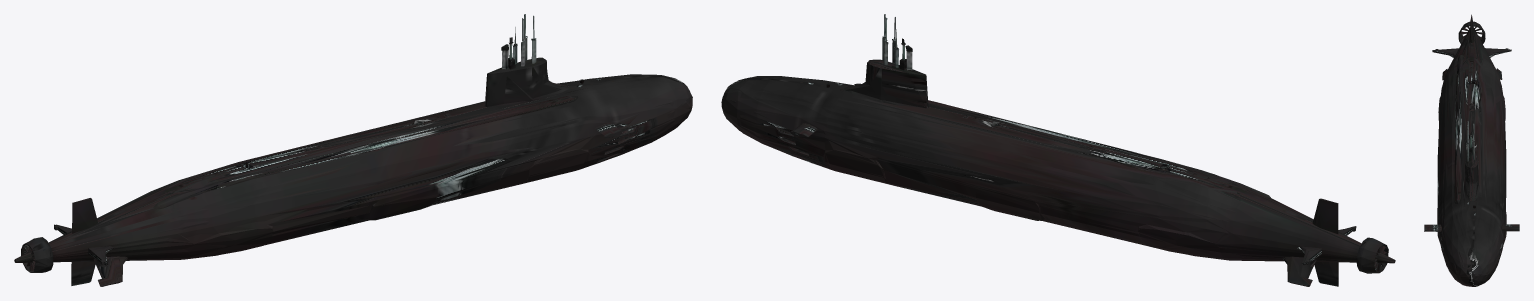
The picture shows the model from 3 angles, left to right: view 1: azimuth 30°, elevation 25°; view 2: azimuth 150°, elevation 25°; view 3: azimuth 270°, elevation 25°; orthographic projection. The views are drawn at different scales.
Parts seen in each view (by area): view 1: Object_4; view 2: Object_4; view 3: Object_4.
Part boxes in pixels (x1=…): Object_4: x1=14, y1=14, x2=692, y2=286; Object_4: x1=721, y1=14, x2=1395, y2=286; Object_4: x1=1424, y1=14, x2=1519, y2=286.
Bounding box in the file's own units: 15.38 × 3.55 × 2.49.
1 material, 1 textured.
